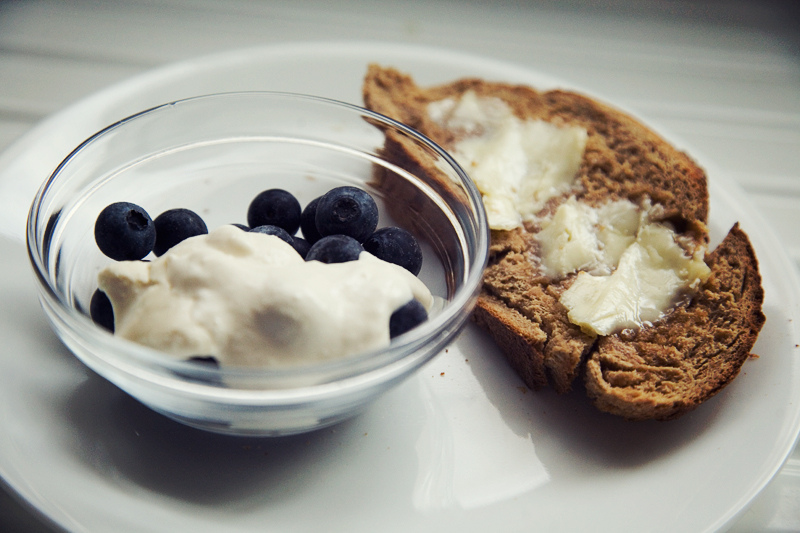slice of bread: (357, 64, 764, 418)
